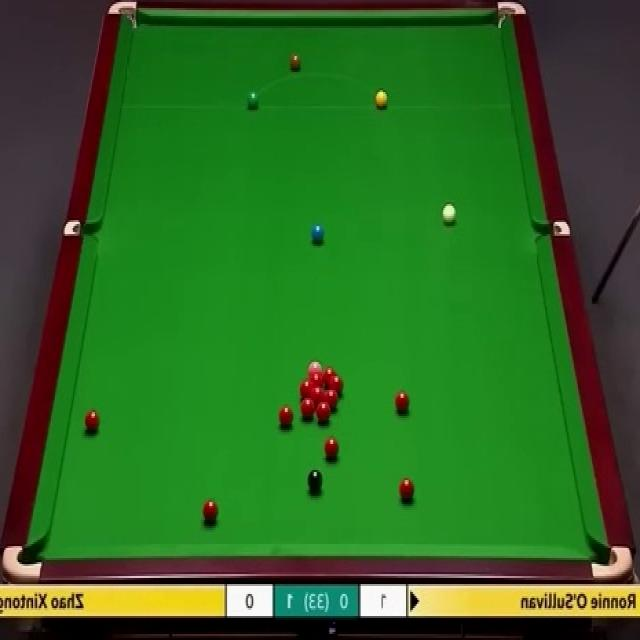pocket: (590, 543, 633, 582), (3, 542, 43, 583), (495, 0, 529, 34), (107, 0, 141, 32), (65, 218, 99, 237), (536, 222, 572, 236)
